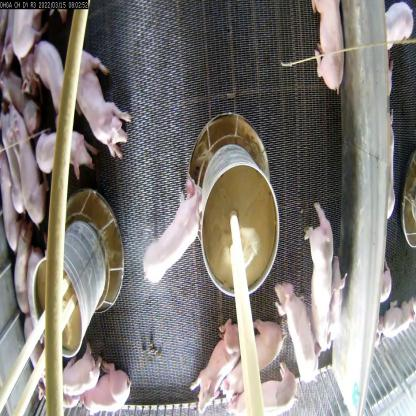Pig: (142, 179, 200, 278), (72, 47, 124, 157), (10, 105, 51, 239), (298, 194, 328, 364), (301, 0, 350, 99), (221, 325, 278, 406), (186, 310, 234, 402), (276, 287, 314, 391), (44, 340, 106, 402), (77, 356, 129, 416), (42, 124, 94, 180), (27, 46, 67, 117), (246, 373, 299, 415), (327, 258, 343, 356)
